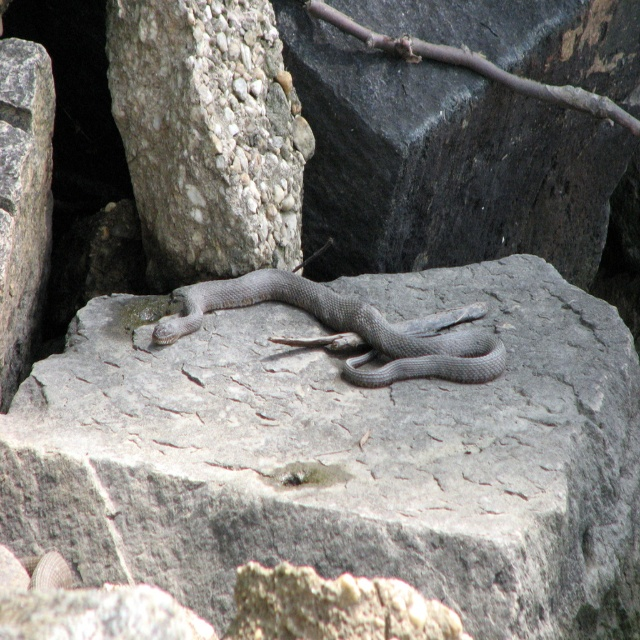Snake: (148, 267, 507, 388)
